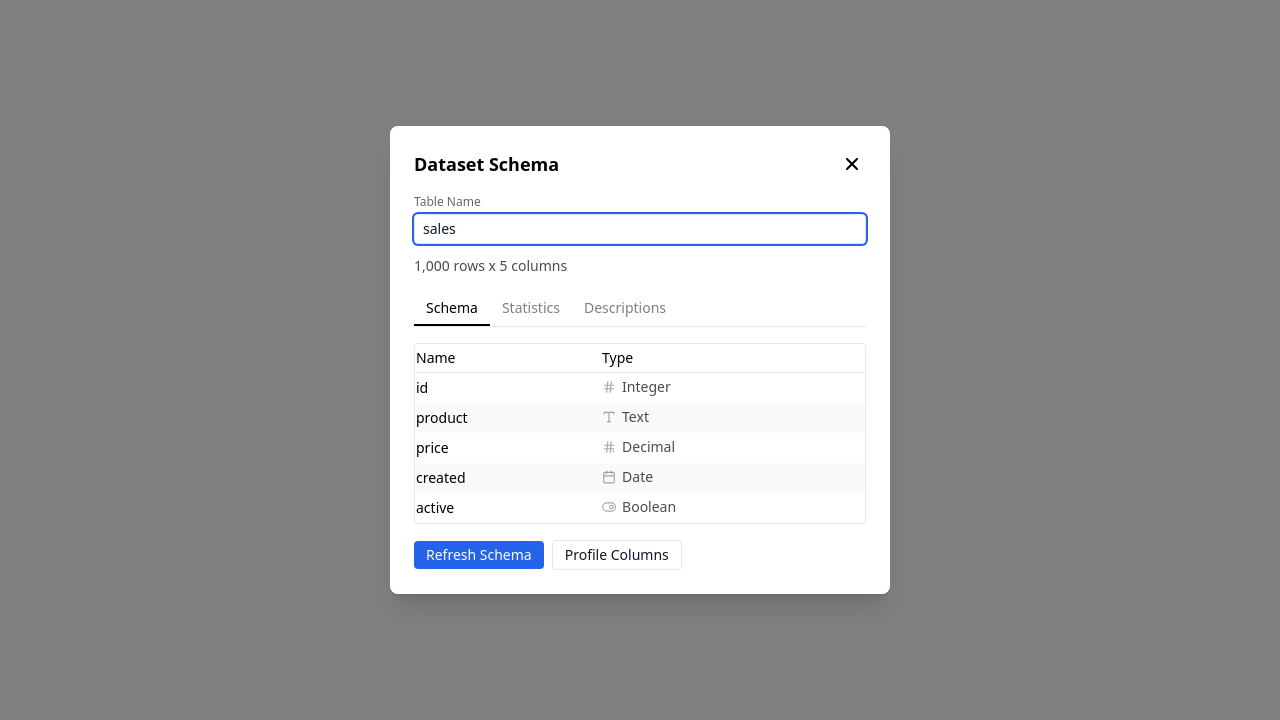
Test case: SM-REFRESH-1: Refresh button calls API › shows error message when refresh fails
Click the button "Refresh Schema": (479, 555) [414,541,544,569]
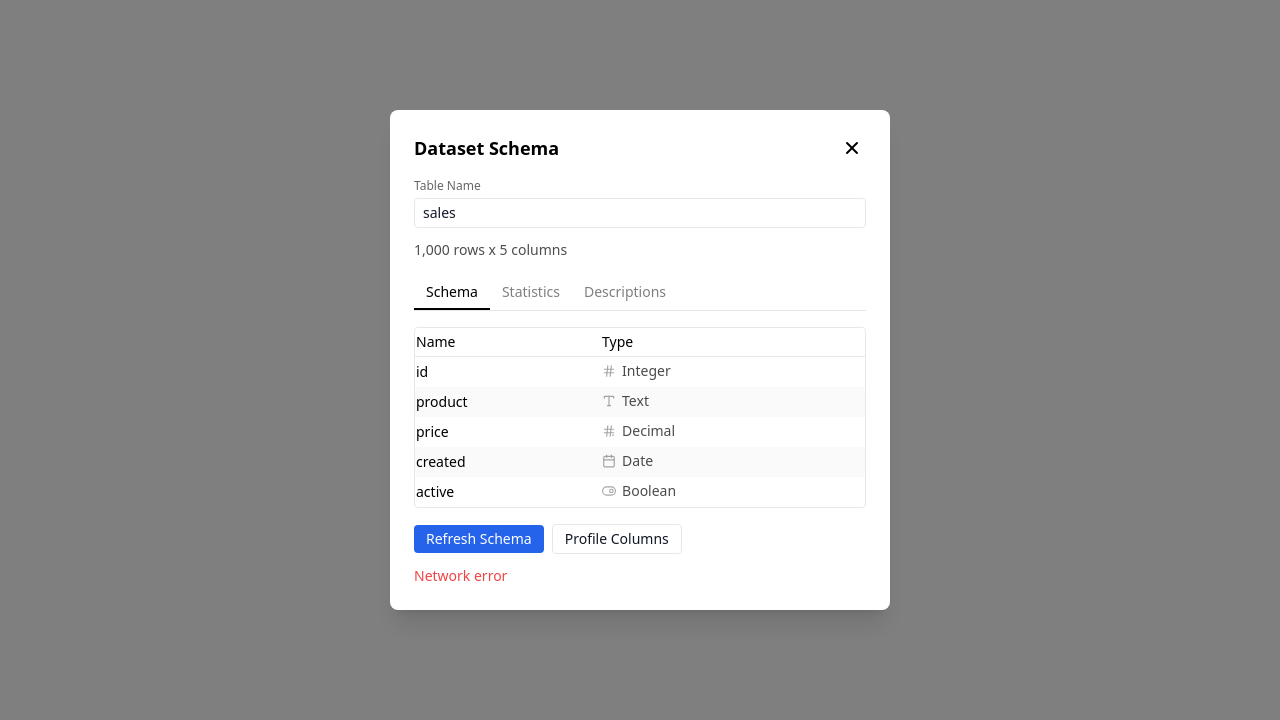
Expected: the text "Network error" is shown, [414,566,507,585]
